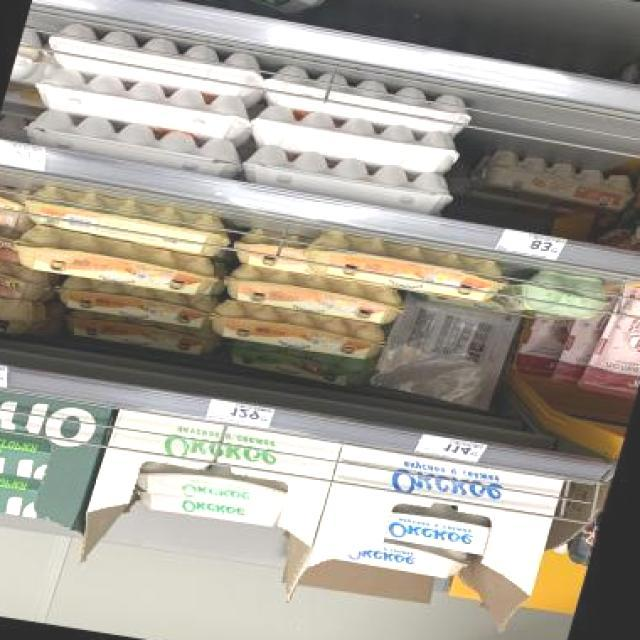egg: (291, 229, 516, 308), (8, 224, 224, 303), (214, 260, 410, 328), (202, 297, 393, 362), (466, 148, 640, 215), (126, 454, 300, 516), (46, 272, 212, 330), (327, 529, 480, 586), (56, 306, 222, 358), (218, 338, 377, 390), (126, 489, 288, 536), (577, 279, 640, 399), (380, 498, 496, 556), (508, 310, 582, 382), (519, 267, 609, 319), (0, 250, 62, 306), (0, 288, 50, 344), (0, 180, 37, 229), (631, 126, 640, 252), (0, 217, 22, 263)
